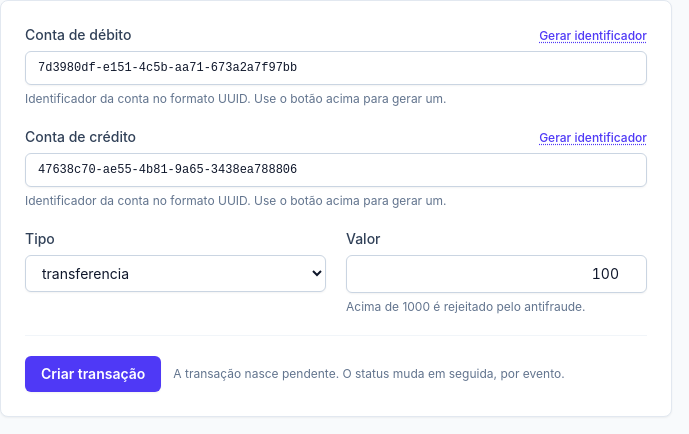
Test: envio › desabilita o botao durante o envio, para nao criar duas vezes
Expected: the button "Criar transação" is enabled, [25,356,161,392]
Replace the text in the field labelled "Conta de débito" with "3fa85f64-5717-4562-b3fc-2c963f66afa6". click: x=336, y=68
box: [25,51,647,85]
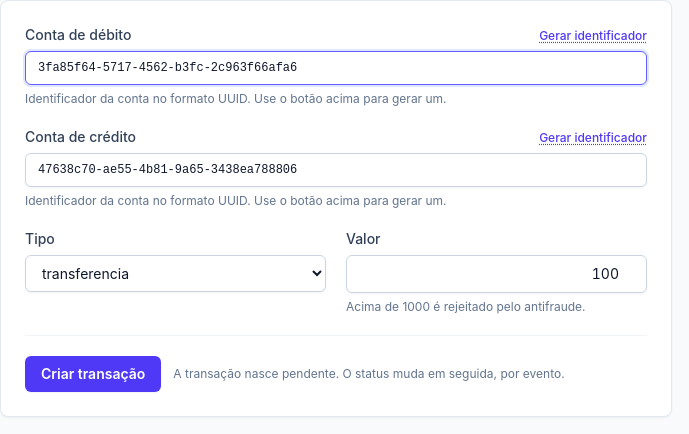
Replace the text in the field labelled "Conta de crédito" with "0f8fad5b-d9cb-469f-a165-70867728950e". click: x=336, y=170
box: [25,153,647,187]
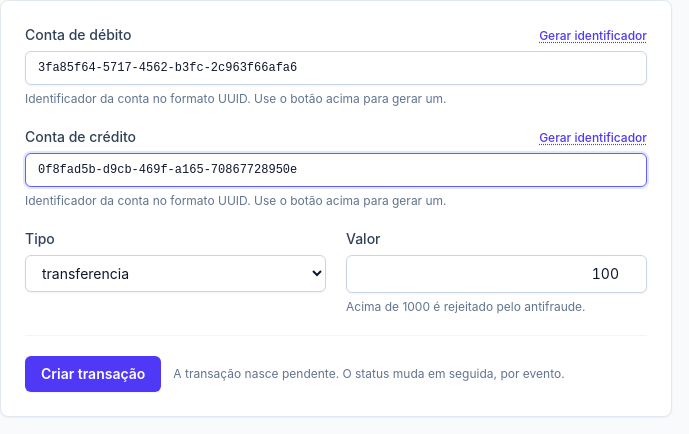
Replace the text in the number field labelled "Valor" with "120". click: x=496, y=274
box: [346,255,647,293]
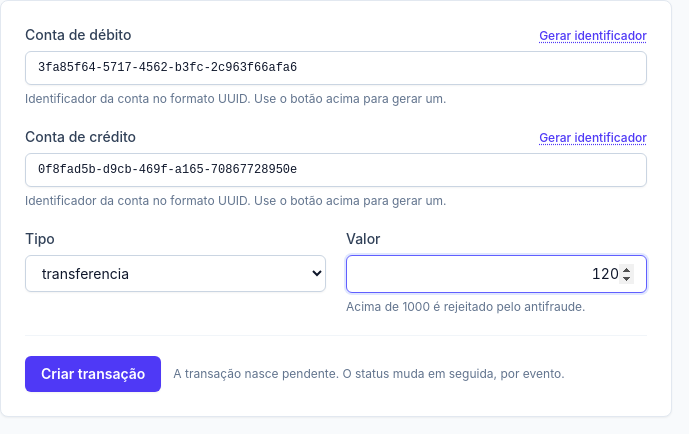
Click the button "Criar transação". click: x=93, y=374
box: [25,356,161,392]
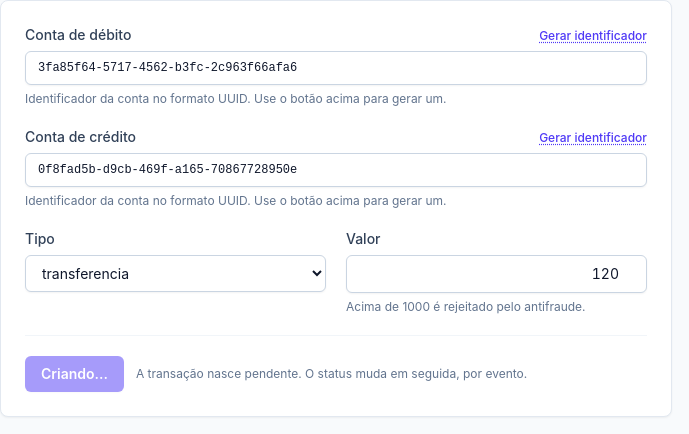
Now the button "Criando..." is disabled, box [25,356,124,392]
